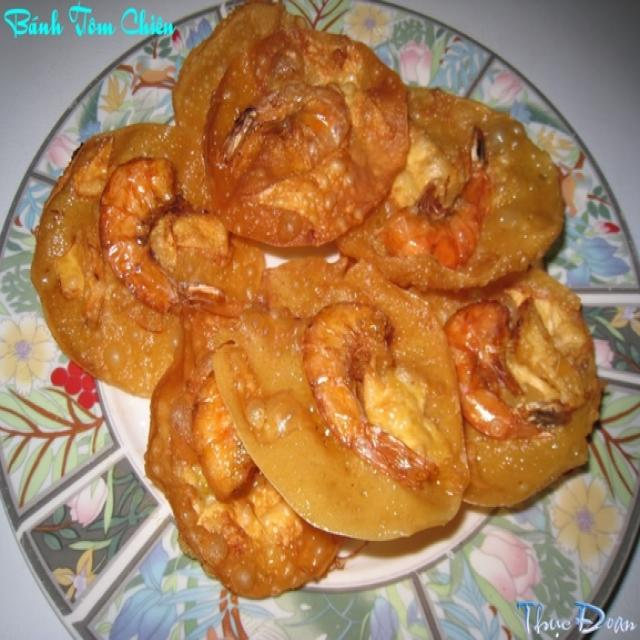炸货点心: (20, 13, 616, 618)
熟制海鲜: (20, 13, 616, 618)
